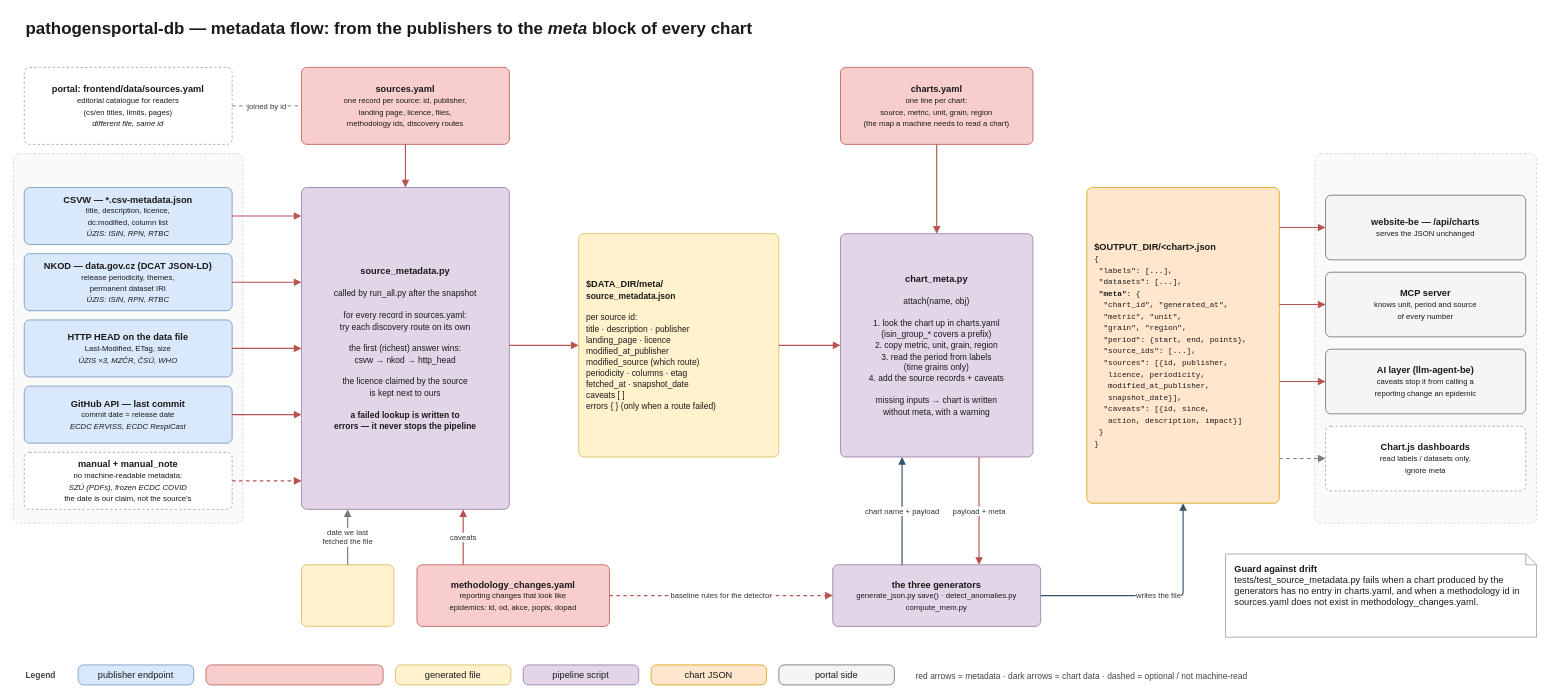
The diagram is 1550 pixels wide and 698 high, and some of its shapes have lost their labels. The shapes that lost their labels are listed below. From the top down, each one's box as (x1, y1, x2, y2) in pixels, then its label:
(13, 153, 243, 523): What the publisher says about the data
(1314, 153, 1537, 523): Who reads it (portal side)
(301, 564, 394, 626): raw/manifest.json written by snapshot.py
(205, 664, 383, 685): hand-maintained registry (YAML)
